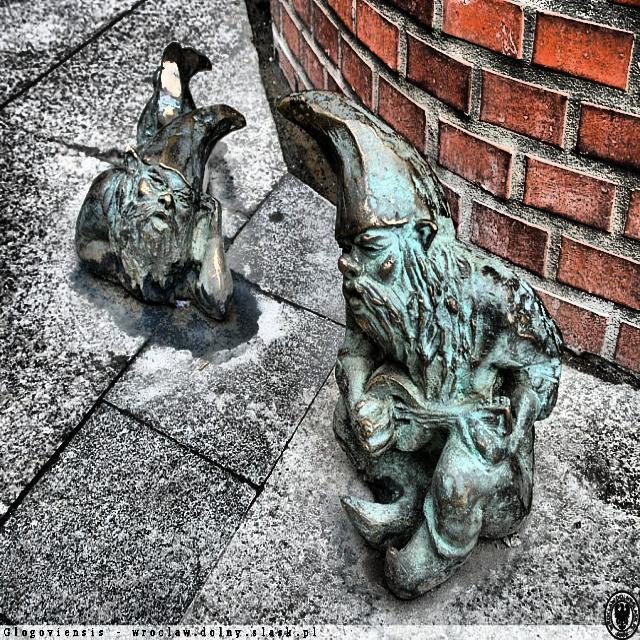Grajek_i_Meloman: (75, 44, 563, 601)
